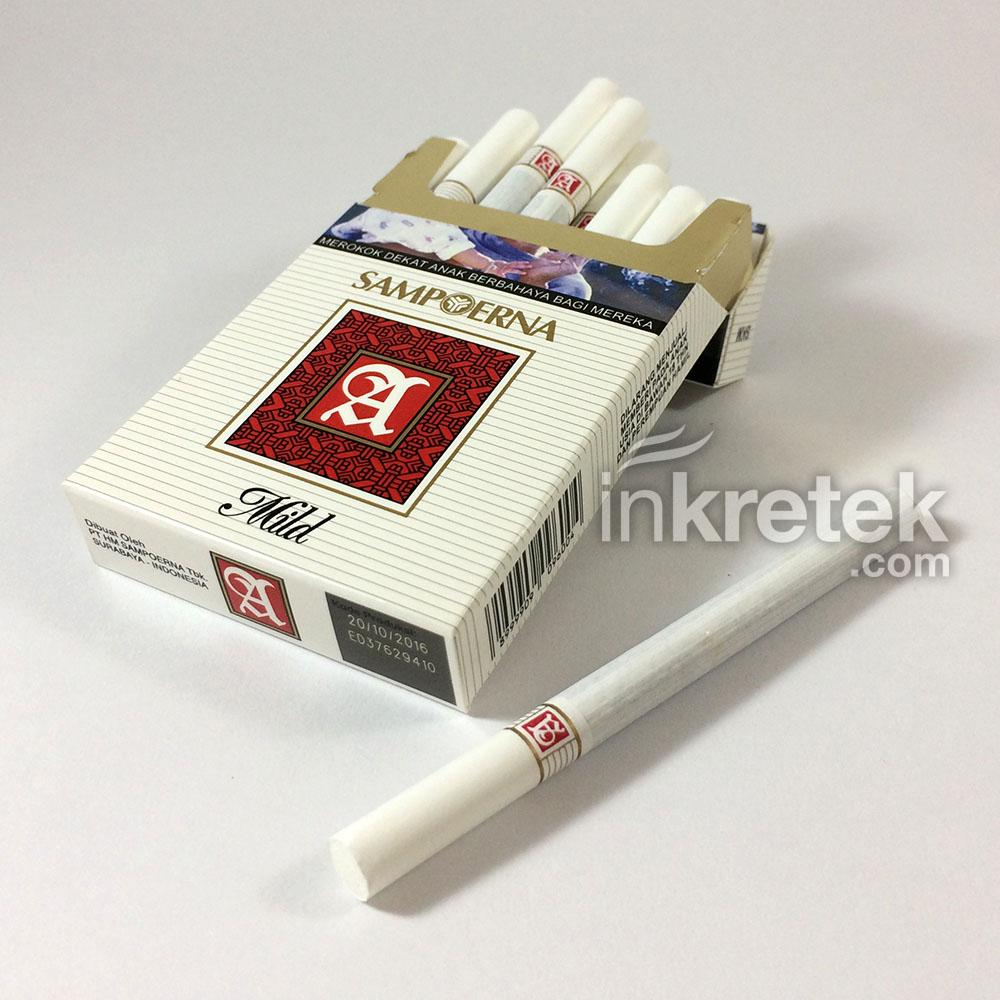A Mild: (41, 214, 619, 734)
